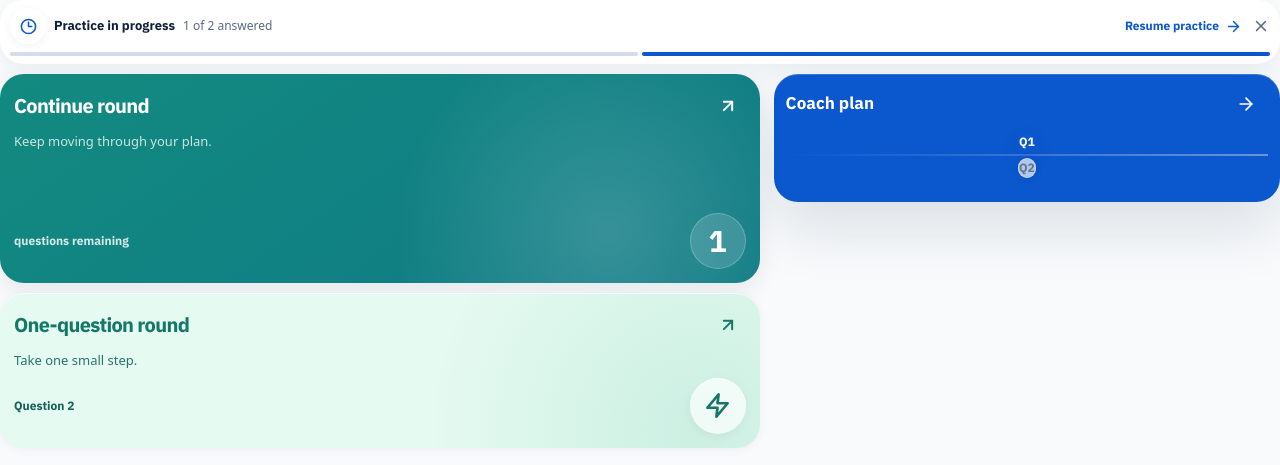
Scenario: CandidateDashboardCoachDeskExperience › keeps unfinished-round continuity dismissible without hiding durable resume actions
expect the message shows "1 of 2 answered": met, box left=183, top=17, right=272, bottom=34
Click the button named "Dismiss practice-in-progress notification" at point(1261, 26), box left=1252, top=17, right=1270, bottom=35
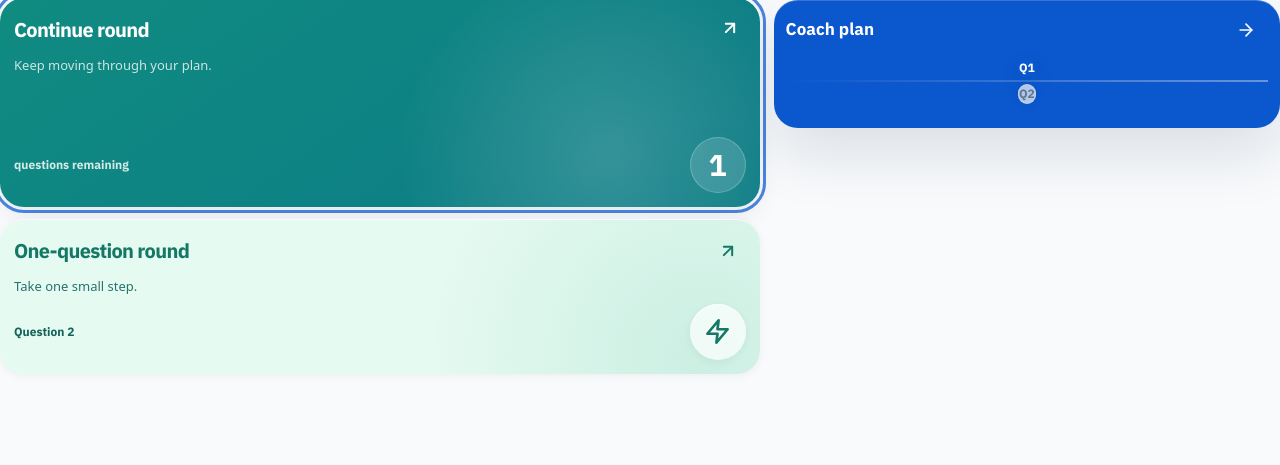
expect the text "Practice in progress" is gone: met
